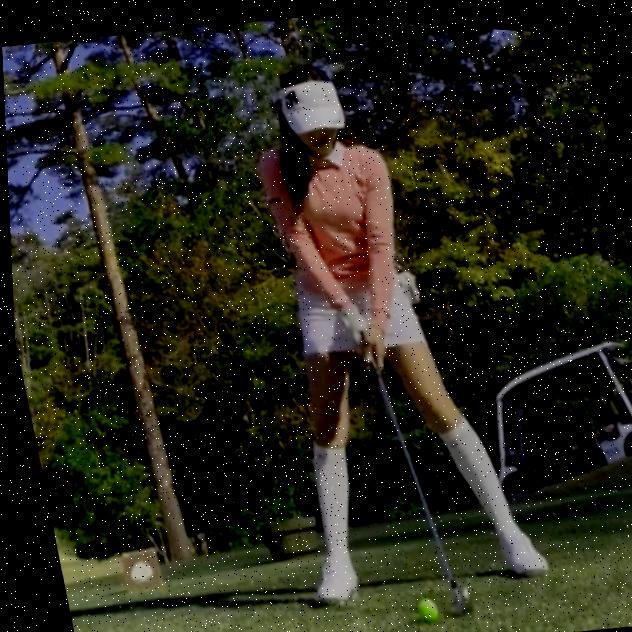ClubHead: (435, 574, 469, 612)
GolfBall: (412, 587, 439, 618)
